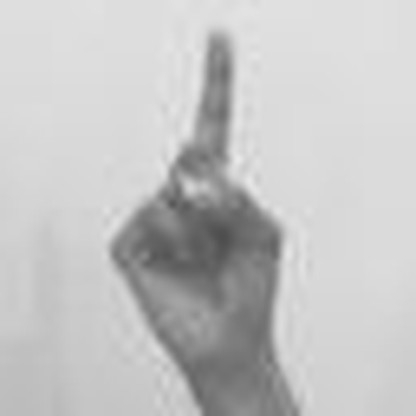d: (97, 24, 294, 366)
